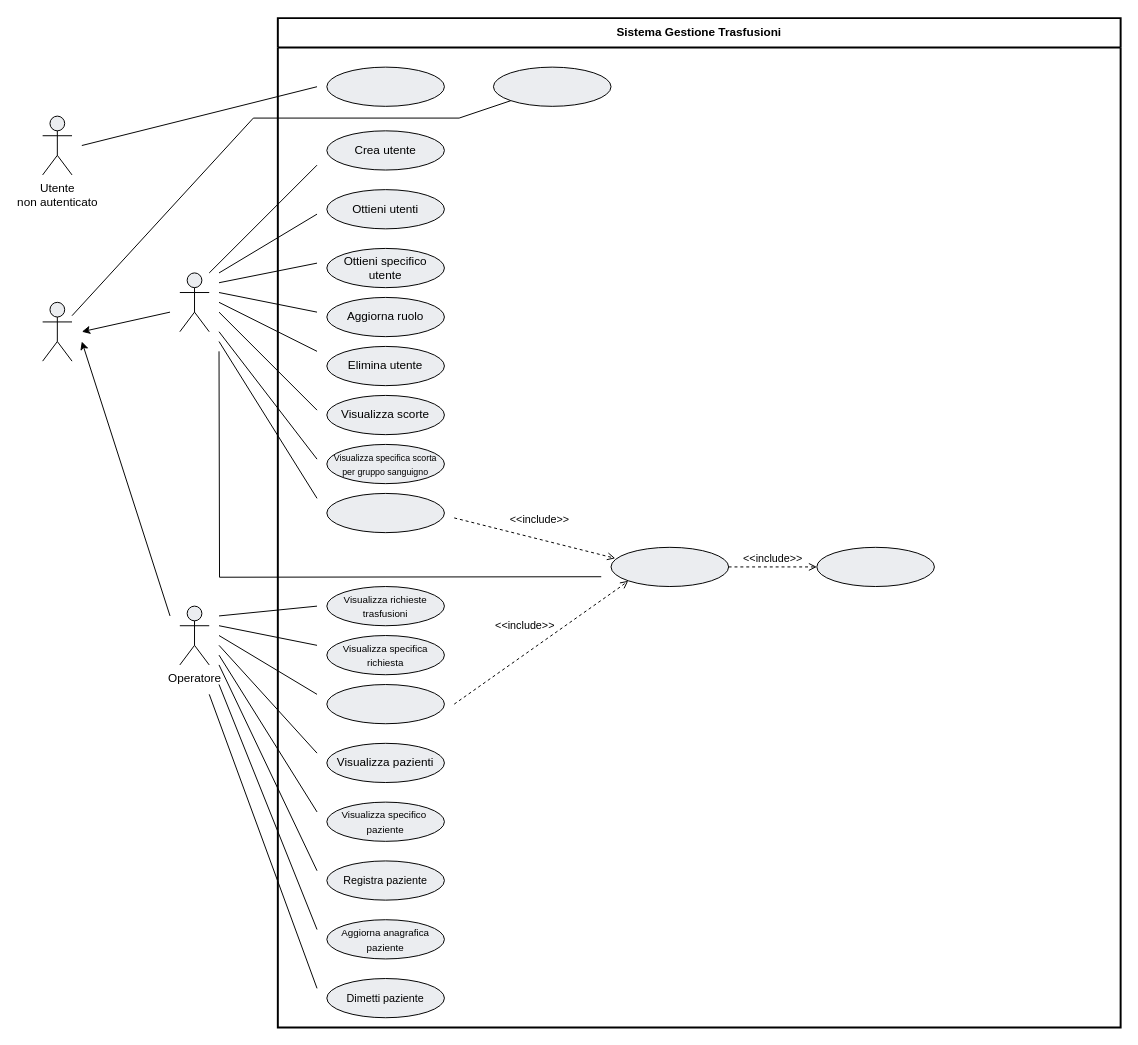
Some shapes in this 1138 by 1045 pixel diagram are drawn without their labels. The shapes that lost their labels are listed below. From the top down, each one's centre as x and y in pixels, then its label:
At point 385,86: "Esegue Login".
At point 551,86: "Esegue Logout".
At point 194,302: "Admin".
At point 57,331: "Utente autenticato".
At point 385,512: "Aggiorna quantità scorte".
At point 669,566: "Calcola Min Cost Max Flow".
At point 875,566: "Assegnazione sacche".
At point 385,704: "Inserimento nuova richiesta".
